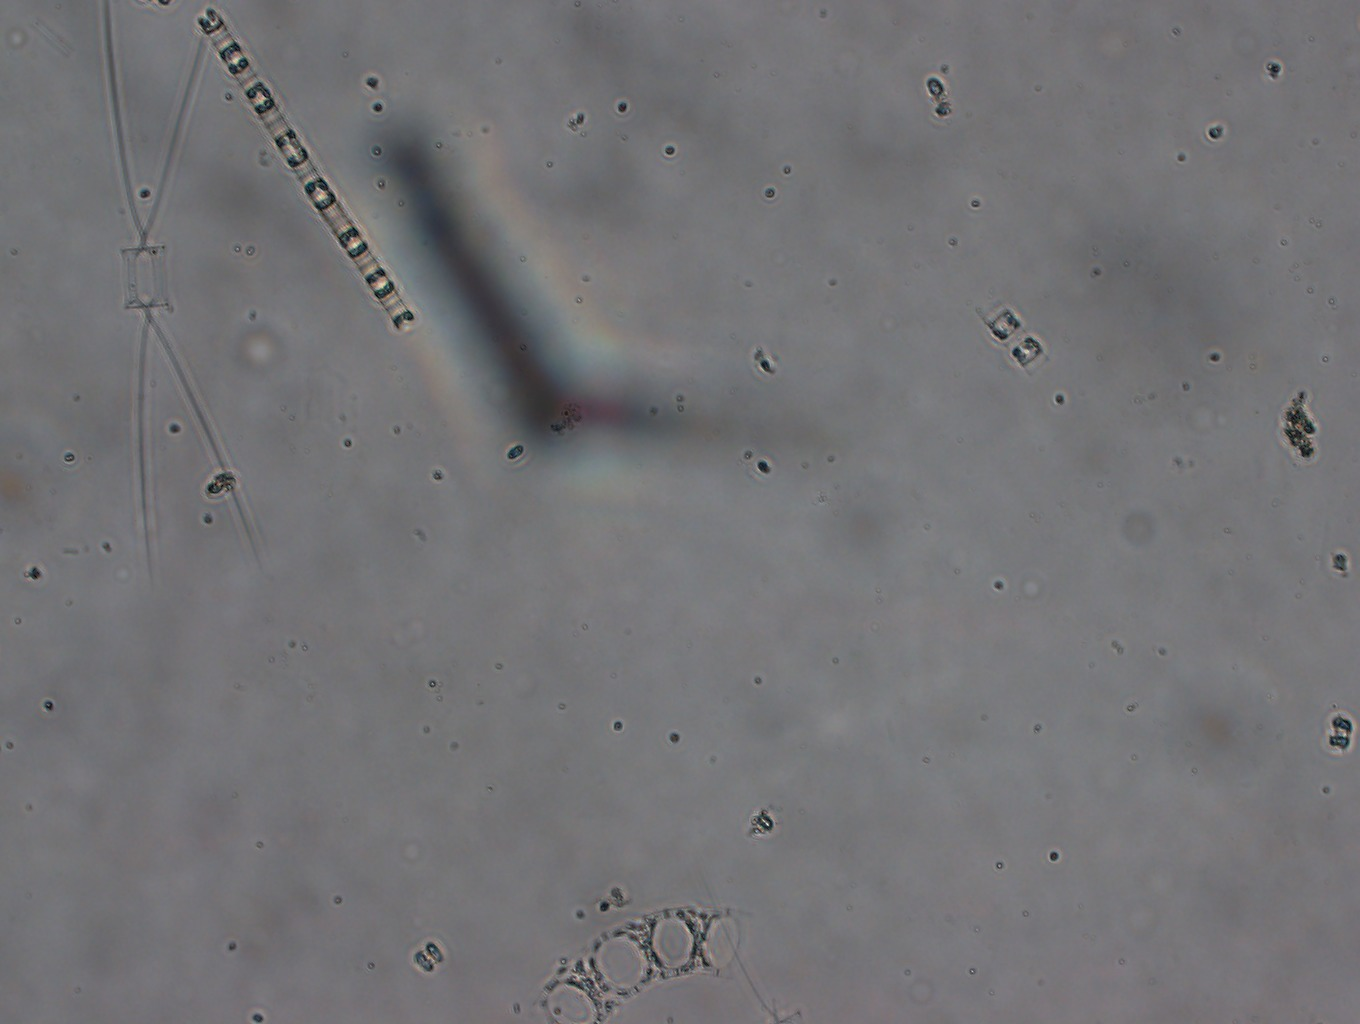chaetoceros: (103, 1, 260, 574)
eucampia: (530, 905, 750, 1024)
skeletonema: (194, 6, 417, 339), (974, 295, 1050, 376)
